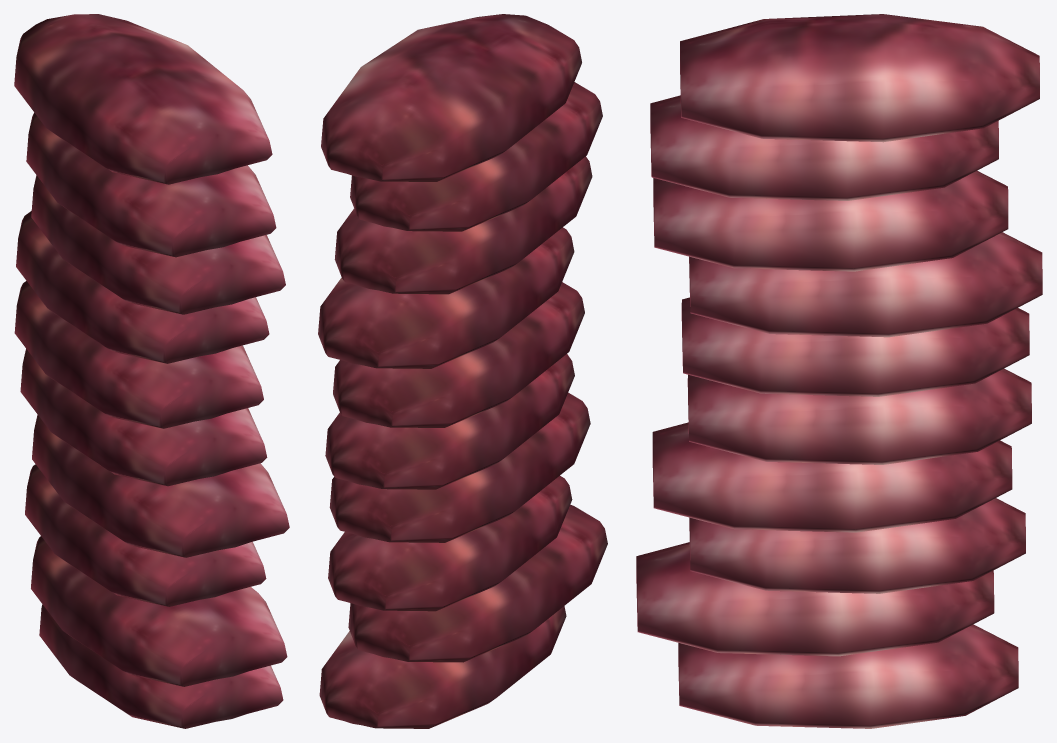
The model's file is MeatStack_RawDeer.glb.
3 views of the same model, side by side, from view 1: azimuth 30°, elevation 25°; view 2: azimuth 150°, elevation 25°; view 3: azimuth 270°, elevation 25° (orthographic). The views are drawn at different scales.
Parts seen in each view (by area): view 1: MeatStack_RawDeer; view 2: MeatStack_RawDeer; view 3: MeatStack_RawDeer.
Boxes of the visible parts, x1,y1,x2,y2 form: MeatStack_RawDeer: [14, 14, 289, 728]; MeatStack_RawDeer: [318, 14, 607, 728]; MeatStack_RawDeer: [636, 14, 1042, 728].
Size of the model in its own units: 0.2853 by 1.01 by 0.5589.
Materials: 1 (1 with a texture image).
